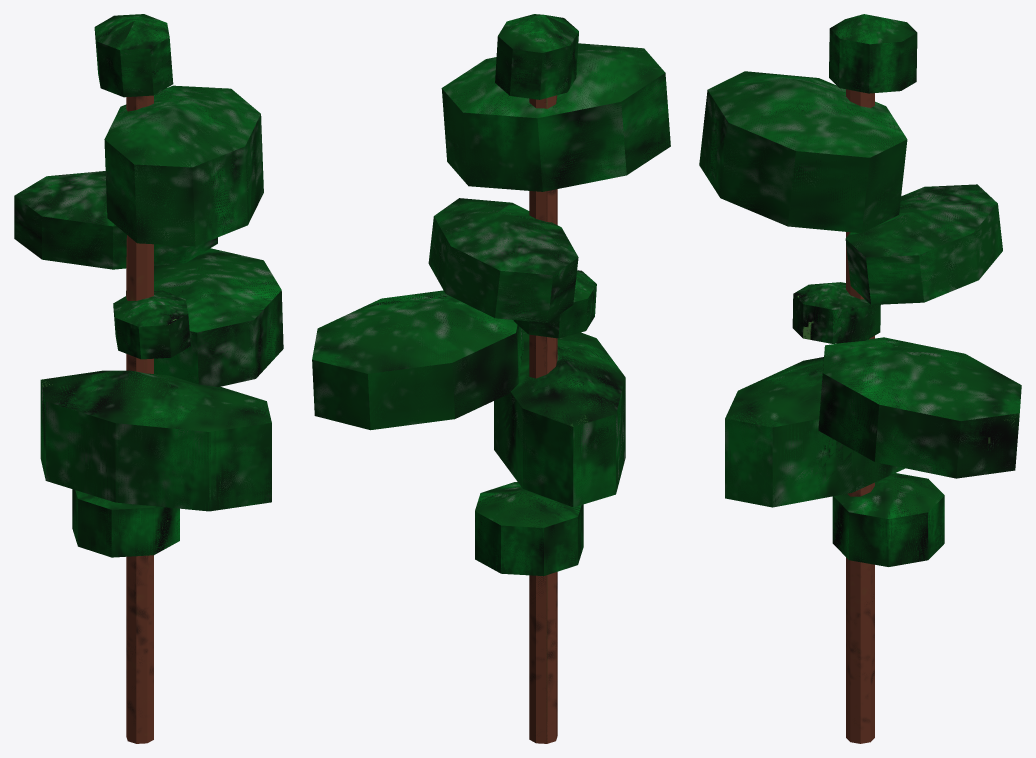
The model's file is tree4.fbx.
3 renders of one model, left to right at view 1: azimuth 30°, elevation 25°; view 2: azimuth 150°, elevation 25°; view 3: azimuth 270°, elevation 25°, orthographic.
Visible parts, largest first — view 1: pCylinder3, pCylinder7, pCylinder6, pCylinder4, trunk1, pCylinder8, pCylinder2, pCylinder5; view 2: pCylinder7, pCylinder6, pCylinder3, pCylinder4, pCylinder2, trunk1, pCylinder8, pCylinder5; view 3: pCylinder7, pCylinder6, pCylinder3, pCylinder4, pCylinder2, pCylinder8, trunk1, pCylinder5.
Part boxes in pixels (x1=…): pCylinder3: x1=40, y1=370, x2=271, y2=511; pCylinder7: x1=104, y1=85, x2=263, y2=246; pCylinder6: x1=126, y1=248, x2=283, y2=387; pCylinder4: x1=14, y1=171, x2=217, y2=269; trunk1: x1=126, y1=95, x2=153, y2=743; pCylinder8: x1=94, y1=14, x2=173, y2=97; pCylinder2: x1=72, y1=489, x2=179, y2=557; pCylinder5: x1=113, y1=290, x2=190, y2=359; pCylinder7: x1=441, y1=43, x2=670, y2=191; pCylinder6: x1=312, y1=290, x2=523, y2=430; pCylinder3: x1=494, y1=330, x2=625, y2=507; pCylinder4: x1=428, y1=198, x2=578, y2=322; pCylinder2: x1=475, y1=482, x2=583, y2=576; trunk1: x1=529, y1=95, x2=557, y2=743; pCylinder8: x1=495, y1=14, x2=578, y2=99; pCylinder5: x1=513, y1=270, x2=596, y2=338; pCylinder7: x1=699, y1=71, x2=907, y2=233; pCylinder6: x1=818, y1=337, x2=1021, y2=478; pCylinder3: x1=725, y1=357, x2=904, y2=507; pCylinder4: x1=845, y1=184, x2=1002, y2=304; pCylinder2: x1=832, y1=473, x2=944, y2=566; pCylinder8: x1=829, y1=14, x2=917, y2=93; trunk1: x1=846, y1=89, x2=874, y2=743; pCylinder5: x1=792, y1=282, x2=880, y2=343.
Bounding box in the file's own units: 4.21 × 11.25 × 4.56.
2 materials, 2 textured.
